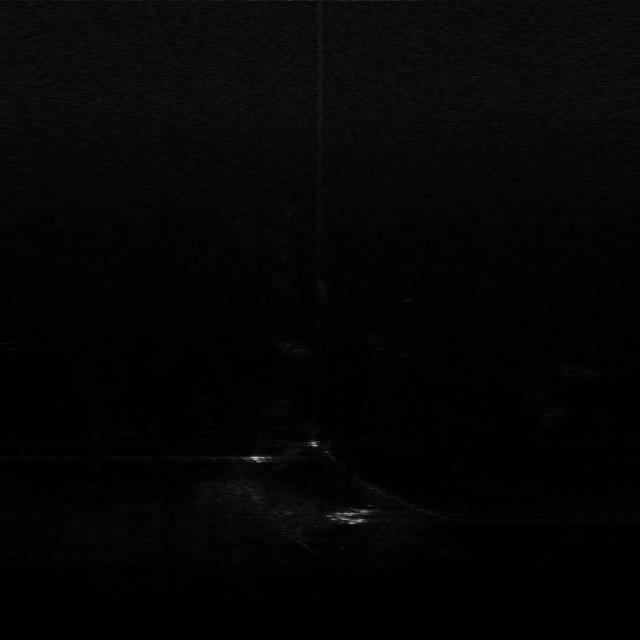rov: (322, 499, 379, 529)
